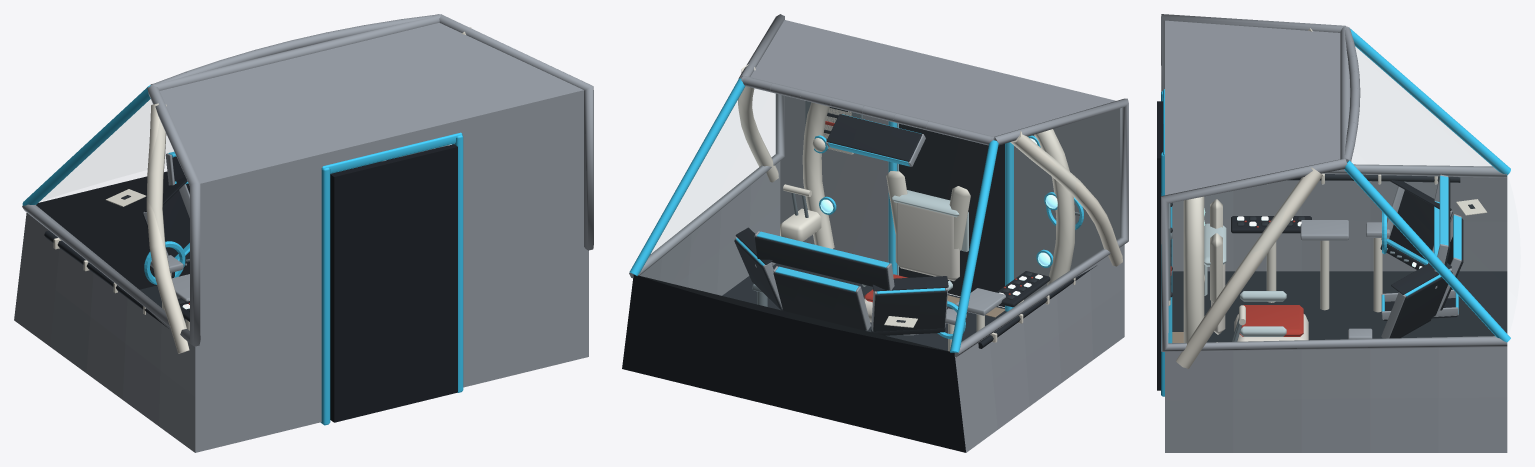
File: empress.glb
3 renders of one model, left to right at view 1: azimuth 30°, elevation 25°; view 2: azimuth 150°, elevation 25°; view 3: azimuth 270°, elevation 25°, orthographic. The views are drawn at different scales.
Parts seen in each view (by area): view 1: Aft bulkhead - Frame, Roof - Frame, door, Forward shell - Frame, Forward shell - Panel, Aft bulkhead - Trim, Forward shell - Pale, Instrument housings - Panel, Forward shell - Trim, Wear and repairs - Rubber, Accessory mounts - Frame; view 2: Forward shell - Panel, Forward shell - Frame, Roof - Frame, Aft bulkhead - Frame, Instrument housings - Panel, door, Ship fittings - Pale, Forward shell - Trim, Pilot chair - Leather, Forward shell - Pale, Instrument housings - Trim, Deck - Rubber (+8 smaller); view 3: Forward shell - Frame, Roof - Frame, Deck - Rubber, Instrument housings - Panel, Forward shell - Trim, Ship fittings - Pale, Forward shell - Pale, Instrument housings - Trim, Instrument housings - Frame, Accessory mounts - Frame, Owner clutter - Signal, Wear and repairs - Pale (+8 smaller).
Boxes of the visible parts, box(x1,y1,x2,y2) form: Aft bulkhead - Frame: box(195, 90, 588, 452); Roof - Frame: box(151, 14, 583, 183); door: box(330, 144, 457, 422); Forward shell - Frame: box(14, 14, 593, 452); Forward shell - Panel: box(36, 157, 399, 289); Aft bulkhead - Trim: box(320, 132, 463, 425); Forward shell - Pale: box(146, 27, 471, 353); Instrument housings - Panel: box(142, 156, 382, 278); Forward shell - Trim: box(22, 85, 150, 205); Wear and repairs - Rubber: box(44, 230, 168, 328); Accessory mounts - Frame: box(150, 255, 189, 301); Forward shell - Panel: box(622, 274, 965, 452); Forward shell - Frame: box(629, 14, 1128, 452); Roof - Frame: box(741, 20, 1115, 145); Aft bulkhead - Frame: box(780, 96, 1120, 306); Instrument housings - Panel: box(734, 114, 948, 335); door: box(898, 123, 1004, 307); Ship fittings - Pale: box(802, 102, 1075, 285); Forward shell - Trim: box(629, 78, 998, 352); Pilot chair - Leather: box(864, 202, 959, 322); Forward shell - Pale: box(738, 64, 1122, 266); Instrument housings - Trim: box(736, 114, 945, 294); Deck - Rubber: box(722, 263, 1006, 350); Forward shell - Frame: box(1161, 14, 1507, 452); Roof - Frame: box(1165, 20, 1350, 195); Deck - Rubber: box(1172, 271, 1507, 342); Instrument housings - Panel: box(1380, 178, 1463, 338); Forward shell - Trim: box(1344, 28, 1510, 342); Ship fittings - Pale: box(1183, 196, 1222, 342); Forward shell - Pale: box(1176, 23, 1322, 368); Instrument housings - Trim: box(1381, 175, 1461, 313); Instrument housings - Frame: box(1342, 169, 1461, 338); Accessory mounts - Frame: box(1300, 220, 1437, 339); Owner clutter - Signal: box(1170, 220, 1303, 336); Wear and repairs - Pale: box(1320, 173, 1437, 312).
Bounding box in the file's own units: 2.8 × 1.89 × 2.25.
